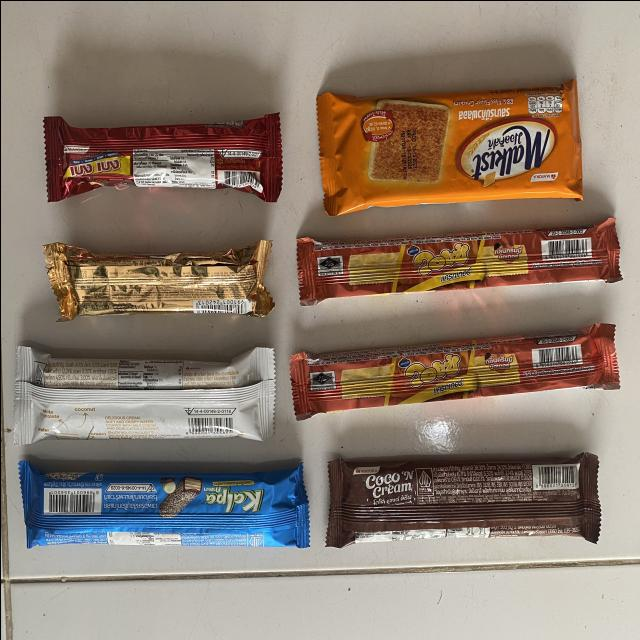plastik: (316, 78, 581, 215), (290, 323, 618, 419), (297, 219, 619, 303), (325, 452, 599, 546), (13, 345, 274, 443), (18, 460, 308, 547), (43, 112, 281, 201), (43, 240, 273, 320)
